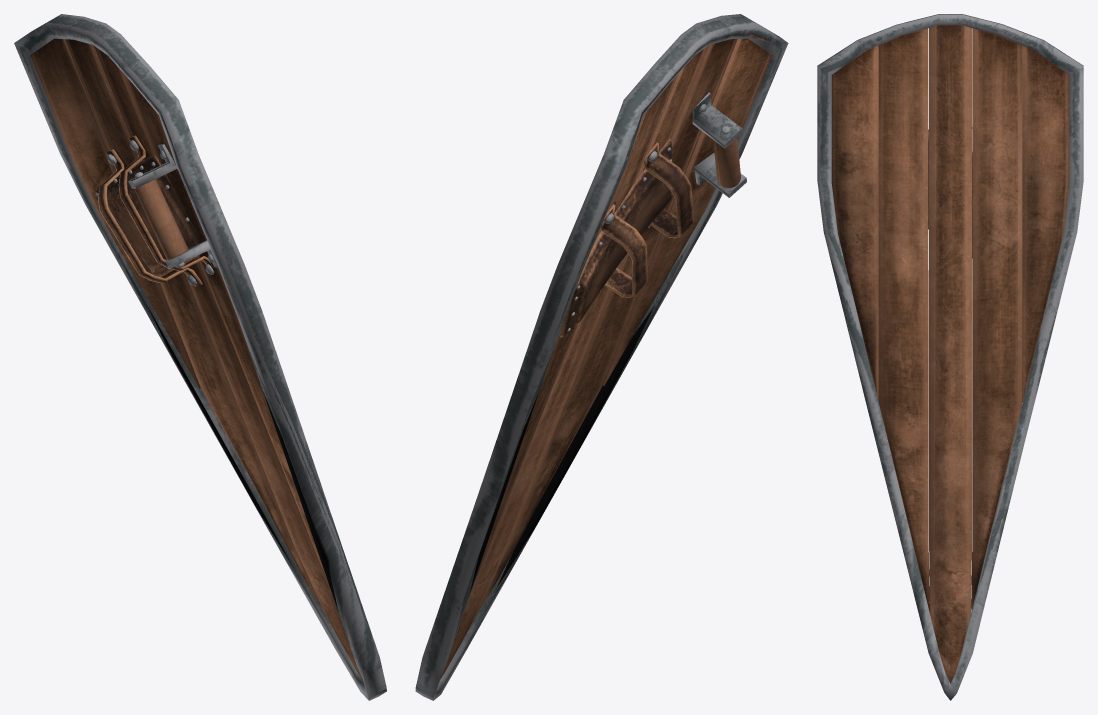
The model's file is s_kite.glb.
3 renders of one model, left to right at view 1: azimuth 30°, elevation 25°; view 2: azimuth 150°, elevation 25°; view 3: azimuth 270°, elevation 25°, orthographic. The views are drawn at different scales.
Visible parts, largest first — view 1: defaultMaterial.002, defaultMaterial.001, defaultMaterial; view 2: defaultMaterial.002, defaultMaterial.001, defaultMaterial; view 3: defaultMaterial.002, defaultMaterial.001.
Part boxes in pixels (x1=…): defaultMaterial.002: x1=30, y1=38, x2=362, y2=679; defaultMaterial.001: x1=14, y1=14, x2=386, y2=700; defaultMaterial: x1=93, y1=135, x2=212, y2=286; defaultMaterial.002: x1=440, y1=34, x2=771, y2=679; defaultMaterial.001: x1=415, y1=14, x2=788, y2=700; defaultMaterial: x1=559, y1=139, x2=694, y2=337; defaultMaterial.002: x1=831, y1=25, x2=1069, y2=683; defaultMaterial.001: x1=817, y1=14, x2=1083, y2=700.
Bounding box in the file's own units: 0.776 × 1.87 × 0.7747.
Materials: 3 (3 with a texture image).
